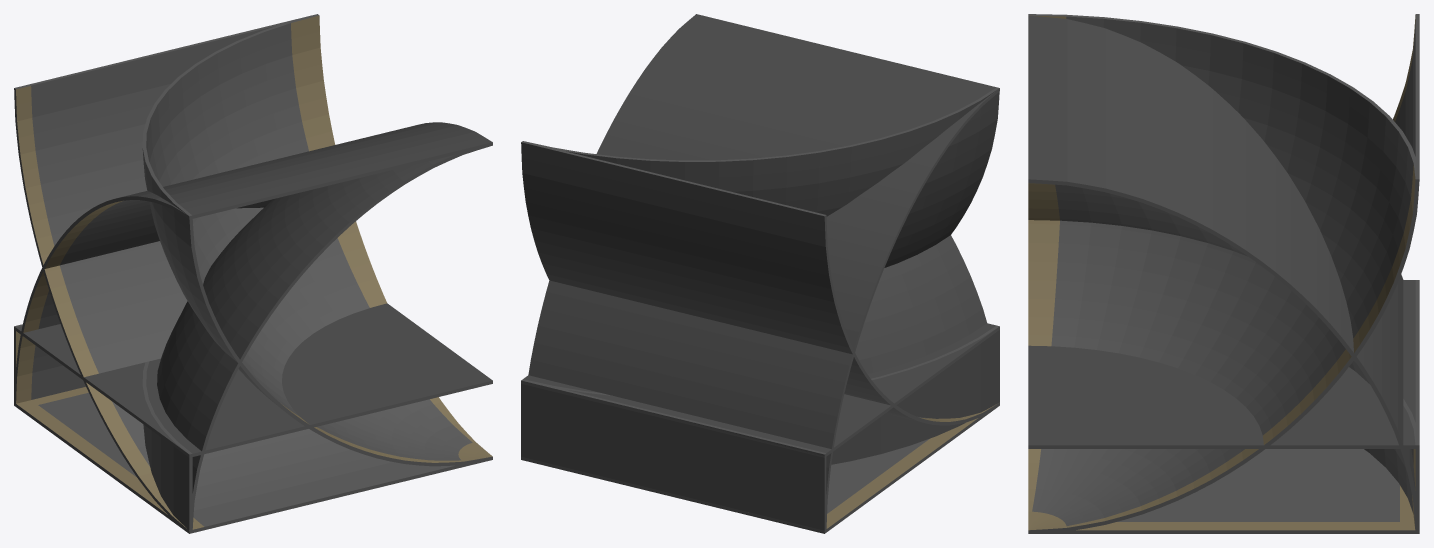
File: wall_track.glb
The picture shows the model from 3 angles, left to right: view 1: azimuth 30°, elevation 25°; view 2: azimuth 150°, elevation 25°; view 3: azimuth 270°, elevation 25°; orthographic projection. The views are drawn at different scales.
Visible parts, largest first — view 1: WallTrackBottom, WallTrackBottomCorner, WallTrackCeiling, WallTrackTopCorner, WallTrackTop, WallTrackFloor, WallTrackMiddleCorner; view 2: WallTrackTop, WallTrackBottom, WallTrackMiddle, WallTrackBottomCorner, WallTrackTopCorner, WallTrackMiddleCorner, WallTrackCeiling, WallTrackFloor; view 3: WallTrackBottomCorner, WallTrackTop, WallTrackCeiling, WallTrackFloor, WallTrackTopCorner, WallTrackBottom, WallTrackMiddle, WallTrackMiddleCorner.
Boxes of the visible parts, box(x1,y1,x2,y2) form: WallTrackBottom: box(14, 14, 454, 529); WallTrackBottomCorner: box(142, 15, 492, 466); WallTrackCeiling: box(16, 303, 492, 457); WallTrackTopCorner: box(157, 146, 489, 527); WallTrackTop: box(16, 122, 492, 403); WallTrackFloor: box(16, 387, 492, 533); WallTrackMiddleCorner: box(142, 361, 192, 533); WallTrackTop: box(528, 14, 999, 528); WallTrackBottom: box(521, 141, 998, 425); WallTrackMiddle: box(521, 380, 826, 533); WallTrackBottomCorner: box(528, 87, 999, 267); WallTrackTopCorner: box(855, 235, 986, 374); WallTrackMiddleCorner: box(522, 325, 999, 464); WallTrackCeiling: box(521, 323, 999, 457); WallTrackFloor: box(521, 402, 999, 532); WallTrackBottomCorner: box(1028, 14, 1415, 530); WallTrackTop: box(1028, 15, 1415, 489); WallTrackCeiling: box(1028, 280, 1415, 448); WallTrackFloor: box(1031, 449, 1415, 533); WallTrackTopCorner: box(1028, 182, 1419, 533); WallTrackBottom: box(1028, 14, 1419, 533); WallTrackMiddle: box(1415, 280, 1419, 445); WallTrackMiddleCorner: box(1403, 399, 1419, 531).
Bounding box in the file's own units: 20 × 20 × 20.
